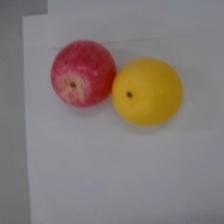red: (50, 39, 117, 108)
yellow: (111, 58, 183, 127)
